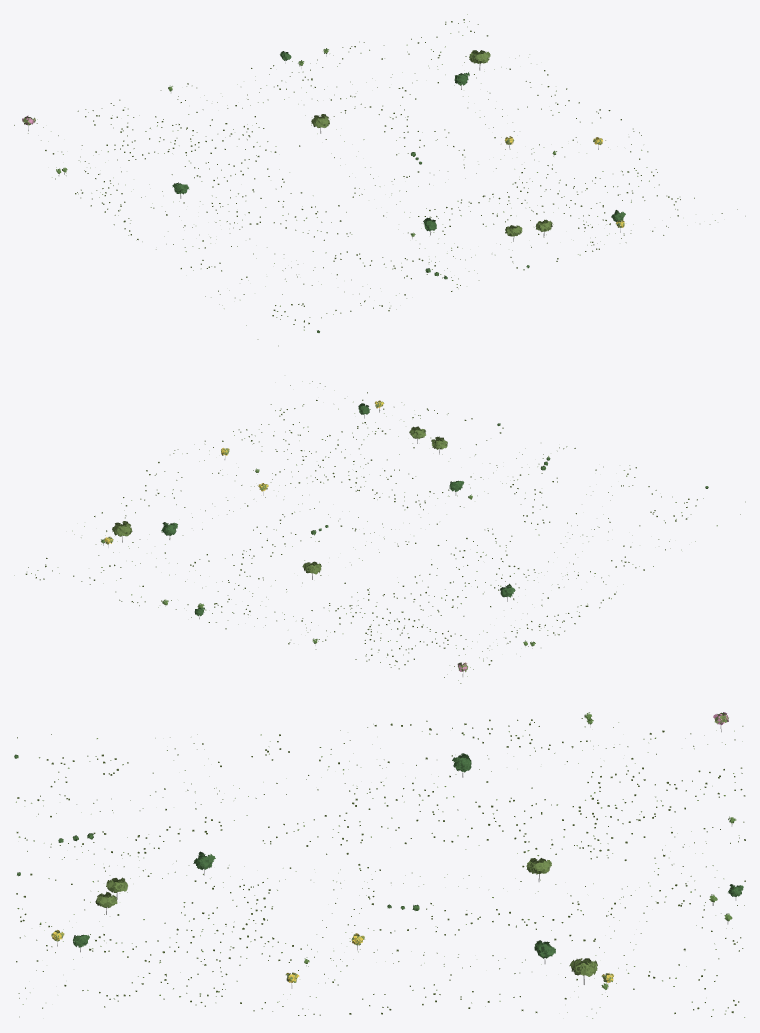
Rendered from Vegetation.fbx.
3 renders of one model, top to bottom at view 1: azimuth 30°, elevation 25°; view 2: azimuth 150°, elevation 25°; view 3: azimuth 270°, elevation 25°, orthographic. The views are drawn at different scales.
Visible parts, largest first — view 1: EXPORT_OT_Vegetation_SA_M01_01_S02_03; view 2: EXPORT_OT_Vegetation_SA_M01_01_S02_03; view 3: EXPORT_OT_Vegetation_SA_M01_01_S02_03.
Boxes of the visible parts, <box> form: EXPORT_OT_Vegetation_SA_M01_01_S02_03: <box>14,14,745,346</box>; EXPORT_OT_Vegetation_SA_M01_01_S02_03: <box>14,381,745,683</box>; EXPORT_OT_Vegetation_SA_M01_01_S02_03: <box>14,712,745,1018</box>.
Bounding box in the file's own units: 249 × 17.84 × 251.
